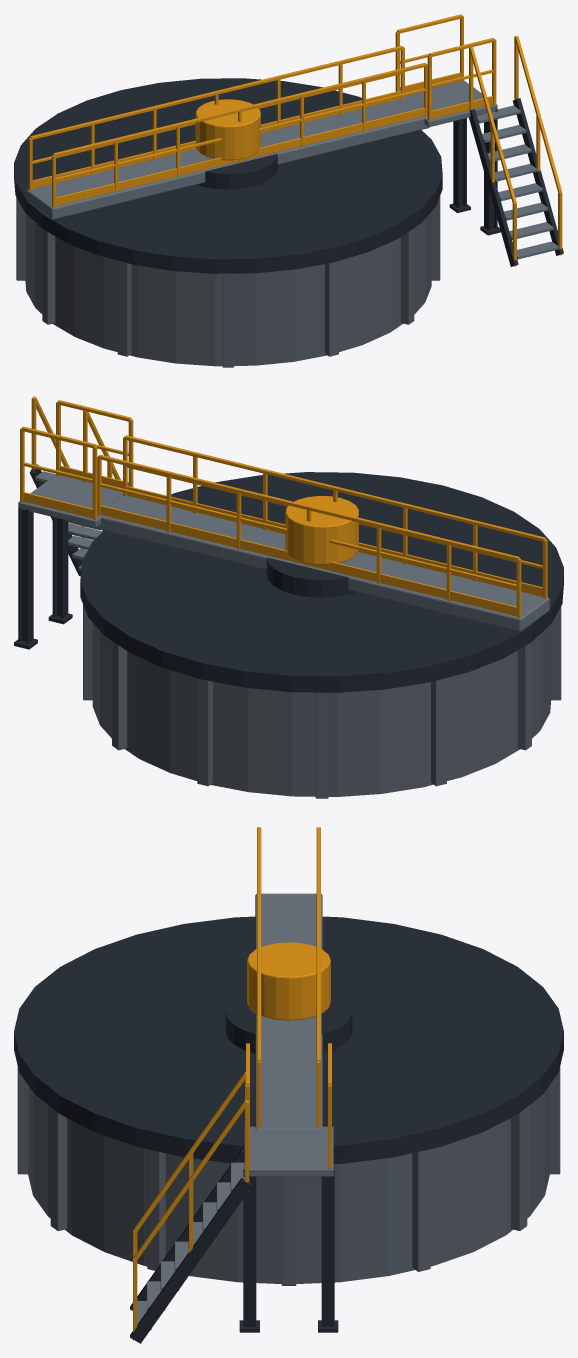
The model's file is thickener_tk201.glb.
3 views of the same model, one above another, from view 1: azimuth 30°, elevation 25°; view 2: azimuth 150°, elevation 25°; view 3: azimuth 270°, elevation 25° (orthographic). The views are drawn at different scales.
Visible parts, largest first — view 1: TK201_LaunderRim, TK201_Basin, TK201_RakeBridge, TK201_DriveHead, TK201_BridgeRailL_ToeBoard, TK201_BridgeRailR_ToeBoard, TK201_BridgeRailR_TopRail, TK201_BridgeRailL_TopRail, TK201_Feedwell, TK201_RadialAccessDeck_Deck, TK201_Buttress_7, TK201_AccessStairs_StringerL (+14 smaller); view 2: TK201_LaunderRim, TK201_Basin, TK201_RakeBridge, TK201_DriveHead, TK201_BridgeRailR_ToeBoard, TK201_BridgeRailL_ToeBoard, TK201_Feedwell, TK201_RadialAccessDeck_Deck, TK201_BridgeRailR_TopRail, TK201_BridgeRailL_TopRail, TK201_Buttress_3, TK201_Buttress_5 (+12 smaller); view 3: TK201_LaunderRim, TK201_Basin, TK201_RakeBridge, TK201_DriveHead, TK201_RadialAccessDeck_Deck, TK201_Feedwell, TK201_AccessStairs_StringerR, TK201_Buttress_1, TK201_AccessColB_FlangeB, TK201_Buttress_2, TK201_Buttress_10, TK201_AccessColA_FlangeB (+9 smaller).
Part boxes in pixels (<box>): TK201_LaunderRim: <box>14,78,442,273</box>; TK201_Basin: <box>25,212,431,366</box>; TK201_RakeBridge: <box>26,98,429,219</box>; TK201_DriveHead: <box>195,99,260,160</box>; TK201_BridgeRailL_ToeBoard: <box>56,107,424,205</box>; TK201_BridgeRailR_ToeBoard: <box>32,90,401,188</box>; TK201_BridgeRailR_TopRail: <box>30,45,403,139</box>; TK201_BridgeRailL_TopRail: <box>53,63,426,156</box>; TK201_Feedwell: <box>185,138,277,189</box>; TK201_RadialAccessDeck_Deck: <box>405,80,497,127</box>; TK201_Buttress_7: <box>117,260,131,356</box>; TK201_AccessStairs_StringerL: <box>469,109,518,266</box>; TK201_LaunderRim: <box>80,472,563,692</box>; TK201_Basin: <box>92,622,550,796</box>; TK201_RakeBridge: <box>95,495,549,631</box>; TK201_DriveHead: <box>285,496,358,564</box>; TK201_BridgeRailR_ToeBoard: <box>100,505,516,616</box>; TK201_BridgeRailL_ToeBoard: <box>126,486,542,596</box>; TK201_Feedwell: <box>266,539,370,597</box>; TK201_RadialAccessDeck_Deck: <box>18,475,122,527</box>; TK201_BridgeRailR_TopRail: <box>98,454,519,560</box>; TK201_BridgeRailL_TopRail: <box>124,435,545,541</box>; TK201_Buttress_3: <box>197,678,212,786</box>; TK201_Buttress_5: <box>431,678,446,786</box>; TK201_LaunderRim: <box>14,916,563,1164</box>; TK201_Basin: <box>28,1086,549,1283</box>; TK201_RakeBridge: <box>255,893,322,1129</box>; TK201_DriveHead: <box>247,942,330,1020</box>; TK201_RadialAccessDeck_Deck: <box>244,1126,333,1176</box>; TK201_Feedwell: <box>225,991,352,1053</box>; TK201_AccessStairs_StringerR: <box>130,1177,252,1343</box>; TK201_Buttress_1: <box>412,1149,430,1271</box>; TK201_AccessColB_FlangeB: <box>321,1173,334,1326</box>; TK201_Buttress_2: <box>510,1107,527,1230</box>; TK201_Buttress_10: <box>50,1107,67,1230</box>; TK201_AccessColA_FlangeB: <box>243,1173,256,1326</box>.
Size of the model in its own units: 7.34 by 2.92 by 5.9.
